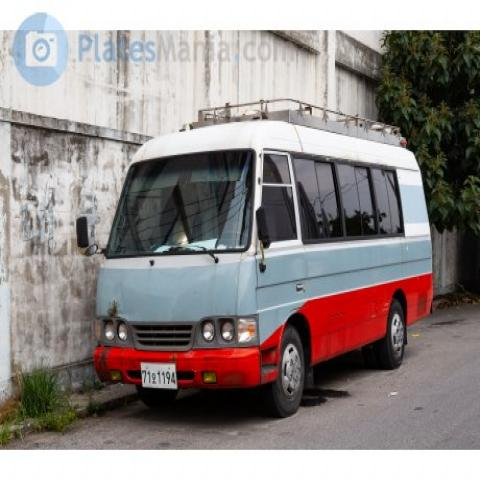LP: (130, 358, 188, 397)
